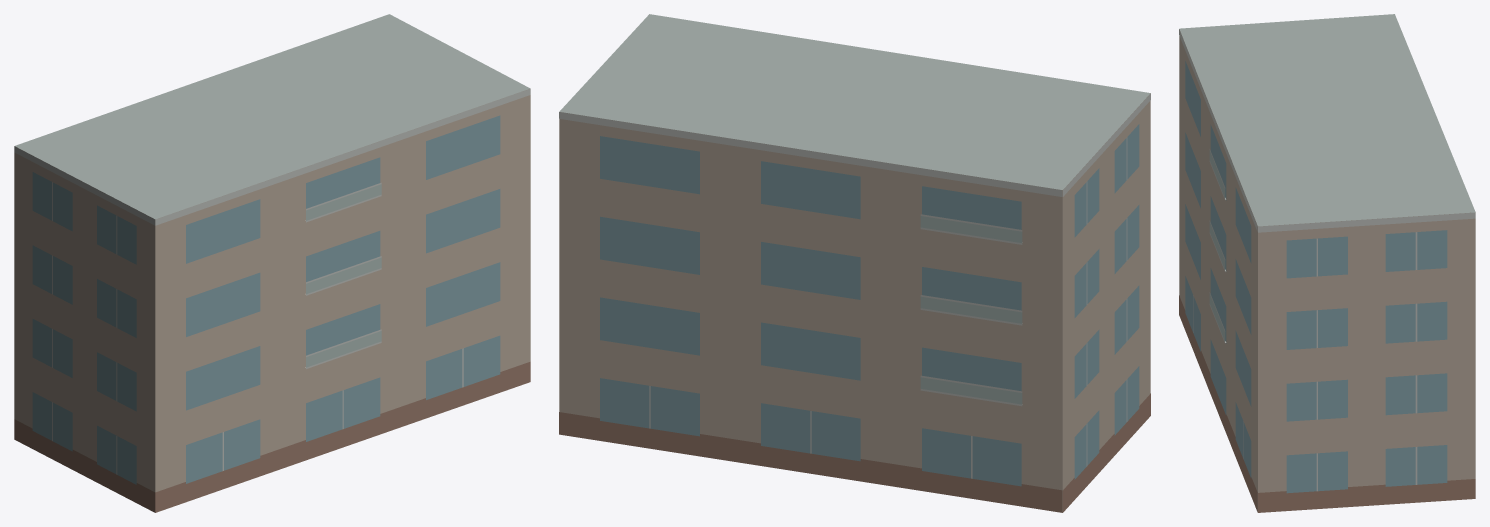
Rendered from survey-upis-33016765.glb.
The picture shows the model from 3 angles, left to right: view 1: azimuth 30°, elevation 25°; view 2: azimuth 150°, elevation 25°; view 3: azimuth 270°, elevation 25°; orthographic projection. The views are drawn at different scales.
Visible parts, largest first — view 1: survey-upis-33016765.tmp; view 2: survey-upis-33016765.tmp; view 3: survey-upis-33016765.tmp.
Boxes of the visible parts, x1,y1,x2,y2 form: survey-upis-33016765.tmp: (14, 14, 530, 512); survey-upis-33016765.tmp: (559, 14, 1150, 512); survey-upis-33016765.tmp: (1179, 14, 1475, 512).
Size of the model in its own units: 17.83 by 11.2 by 10.52.
